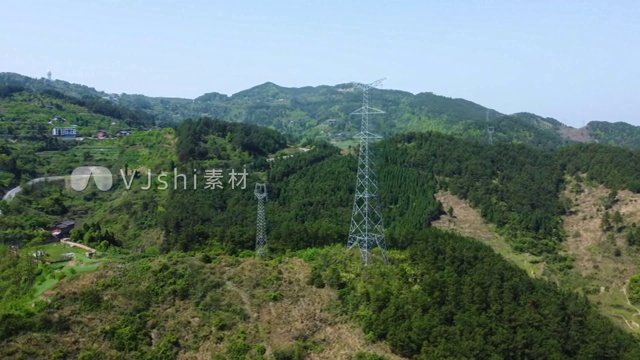tower_body: (346, 70, 396, 271), (249, 178, 276, 262)
tower_foot: (343, 229, 389, 267), (253, 244, 270, 258)
tower_head: (350, 75, 385, 95), (250, 182, 269, 203)
